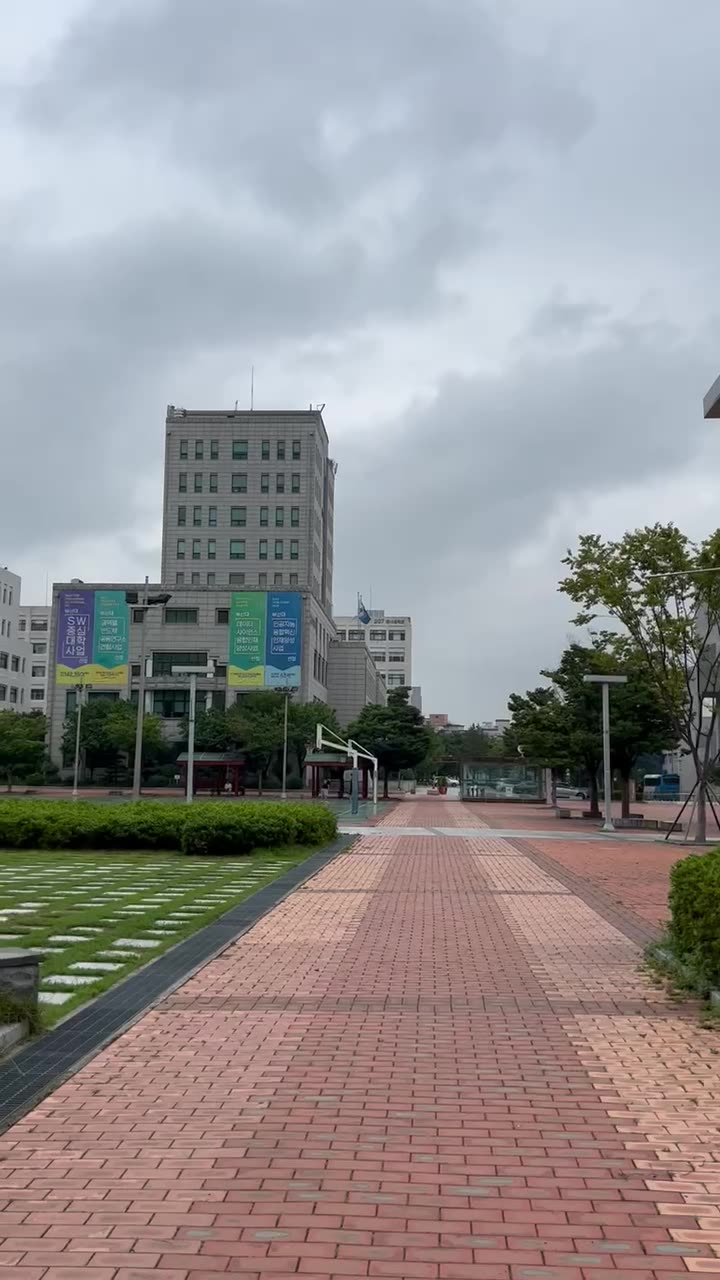low: (160, 400, 332, 600)
